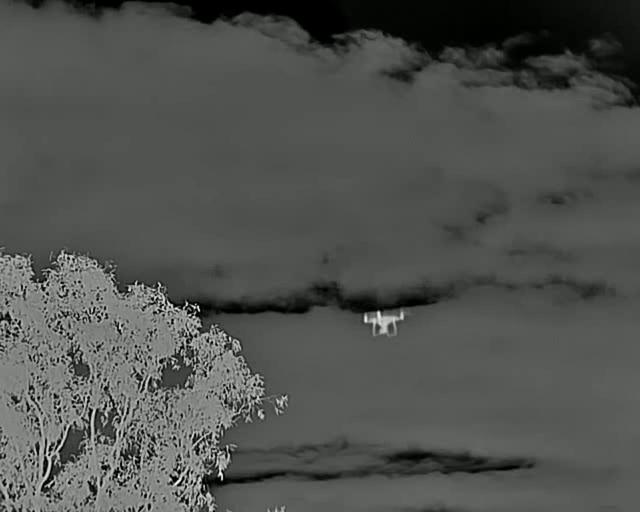DJI-Phantom: (362, 308, 409, 340)
